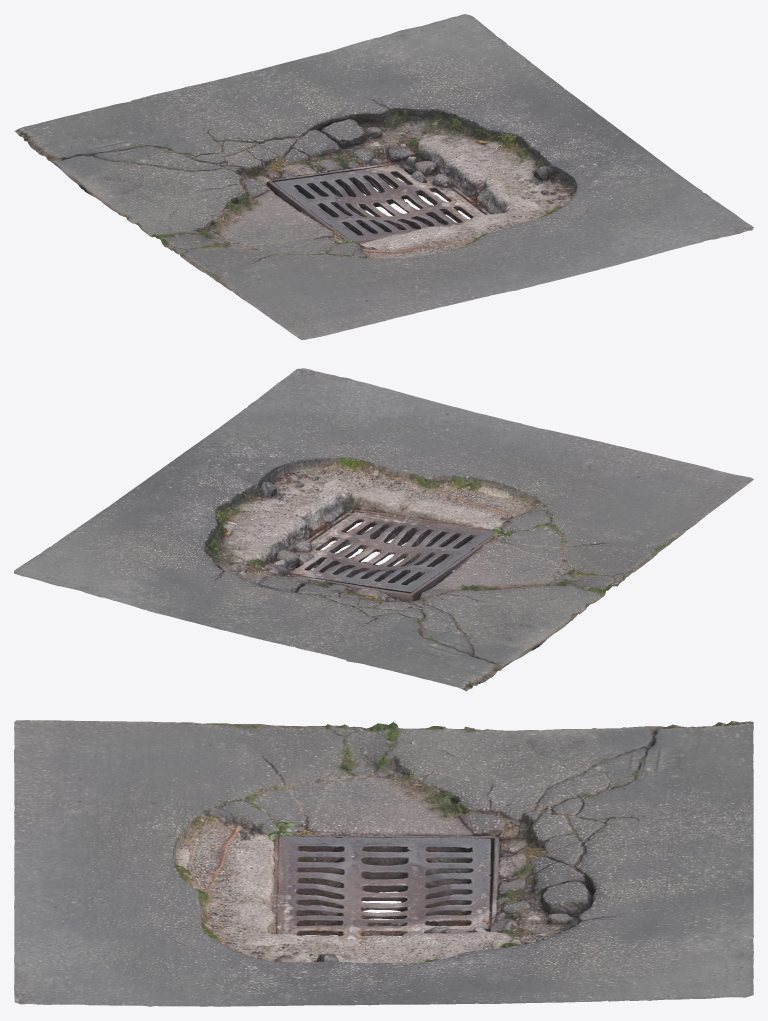
The model's file is manhole_cover_on_broken_asphalt_road.glb.
The picture shows the model from 3 angles, top to bottom: view 1: azimuth 30°, elevation 25°; view 2: azimuth 150°, elevation 25°; view 3: azimuth 270°, elevation 25°; orthographic projection. The views are drawn at different scales.
Visible parts, largest first — view 1: kanal; view 2: kanal; view 3: kanal.
Part boxes in pixels (left/top/right/bottom): kanal: left=14, top=14, right=753, bottom=339; kanal: left=14, top=368, right=753, bottom=691; kanal: left=14, top=720, right=753, bottom=1006.
Bounding box in the file's own units: 2.04 × 0.1655 × 2.24.
Materials: 1 (1 with a texture image).
